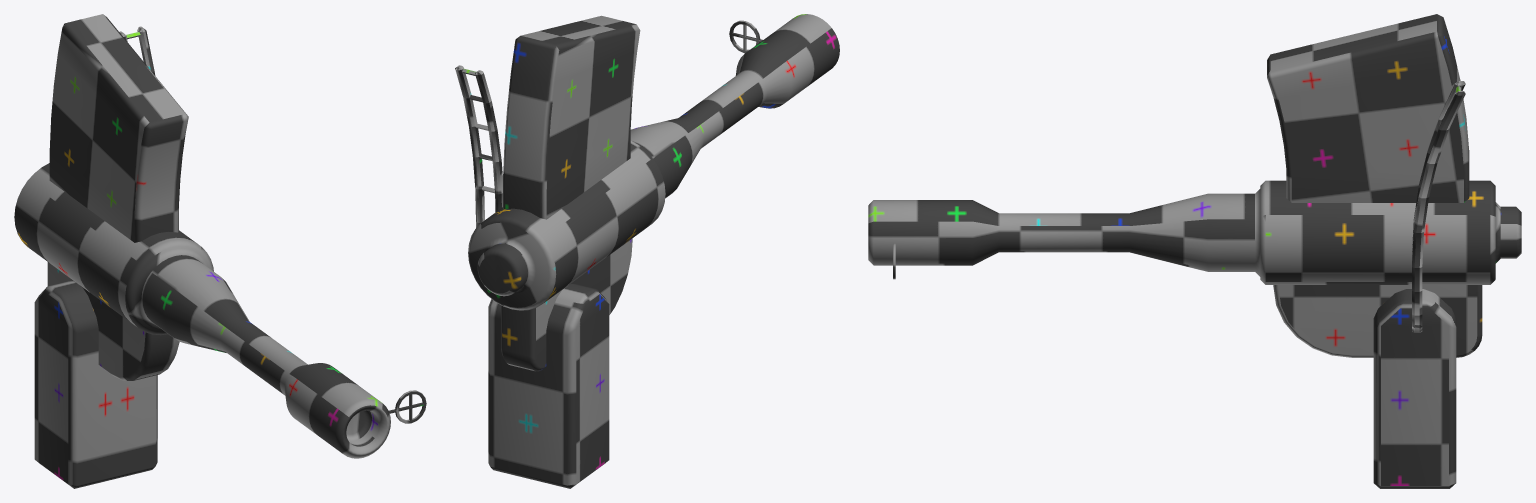
The model's file is Cannon.glb.
3 views of the same model, side by side, from view 1: azimuth 30°, elevation 25°; view 2: azimuth 150°, elevation 25°; view 3: azimuth 270°, elevation 25° (orthographic). The views are drawn at different scales.
Visible parts, largest first — view 1: CAnnon, CannonAxis; view 2: CAnnon, CannonAxis; view 3: CAnnon, CannonAxis.
Part boxes in pixels (x1=…): CAnnon: x1=14, y1=14, x2=426, y2=458; CannonAxis: x1=34, y1=26, x2=157, y2=488; CAnnon: x1=468, y1=14, x2=839, y2=371; CannonAxis: x1=455, y1=65, x2=609, y2=488; CAnnon: x1=868, y1=14, x2=1521, y2=357; CannonAxis: x1=1373, y1=81, x2=1465, y2=488.
Size of the model in its own units: 0.5287 by 1.89 by 2.5.
2 materials, 2 textured.
